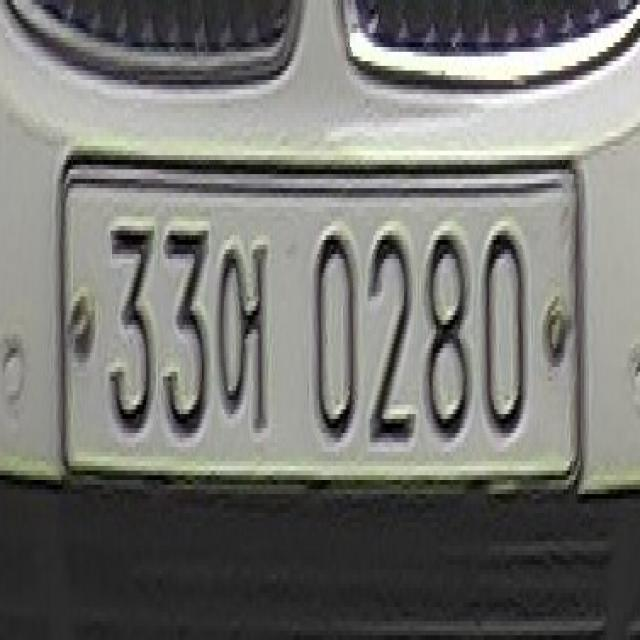0: (481, 217, 526, 442), (314, 217, 357, 442)
2: (363, 217, 416, 447)
3: (105, 217, 160, 438), (161, 217, 209, 442)
8: (421, 207, 472, 442)
eo: (210, 221, 272, 452)
license_plate: (61, 156, 577, 490)
